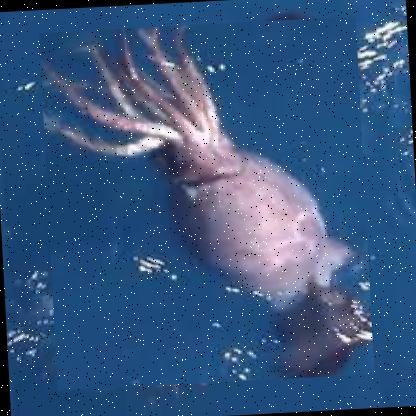colossal_squid: (38, 15, 374, 390)
